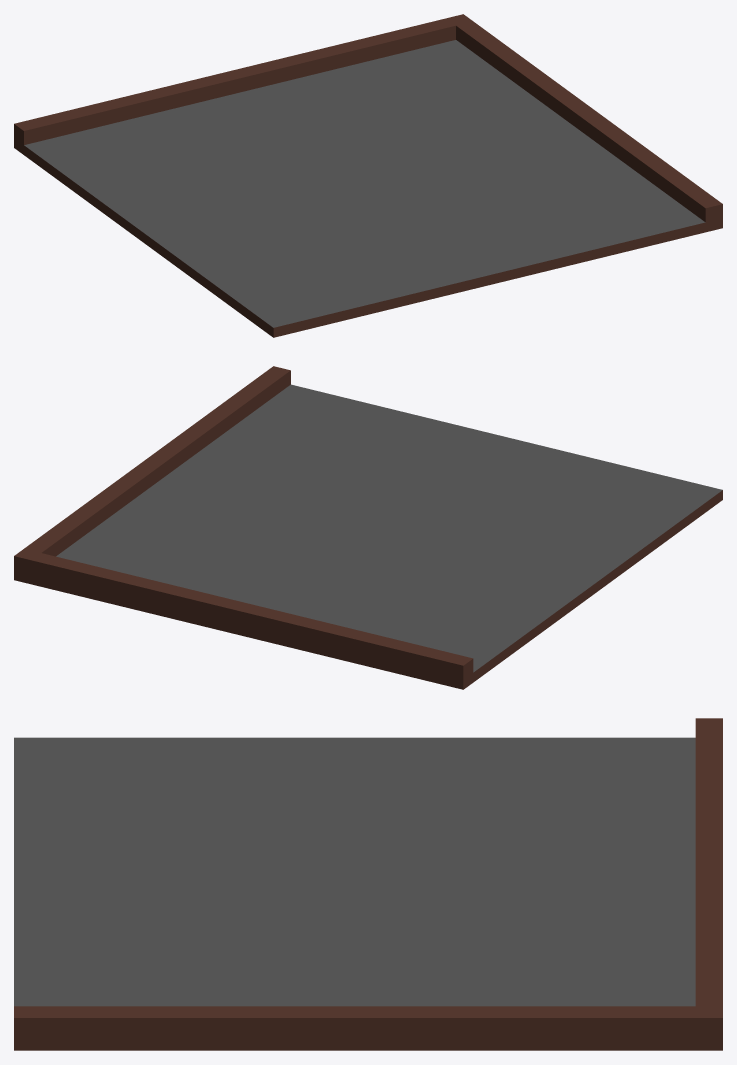
File: Roof B.fbx
3 renders of one model, top to bottom at view 1: azimuth 30°, elevation 25°; view 2: azimuth 150°, elevation 25°; view 3: azimuth 270°, elevation 25°, orthographic. The views are drawn at different scales.
Parts seen in each view (by area): view 1: Roof B; view 2: Roof B; view 3: Roof B.
Part boxes in pixels (x1=…): Roof B: x1=14, y1=14, x2=722, y2=337; Roof B: x1=14, y1=366, x2=722, y2=689; Roof B: x1=14, y1=718, x2=722, y2=1050.
Size of the model in its own units: 330 by 16.92 by 330.
